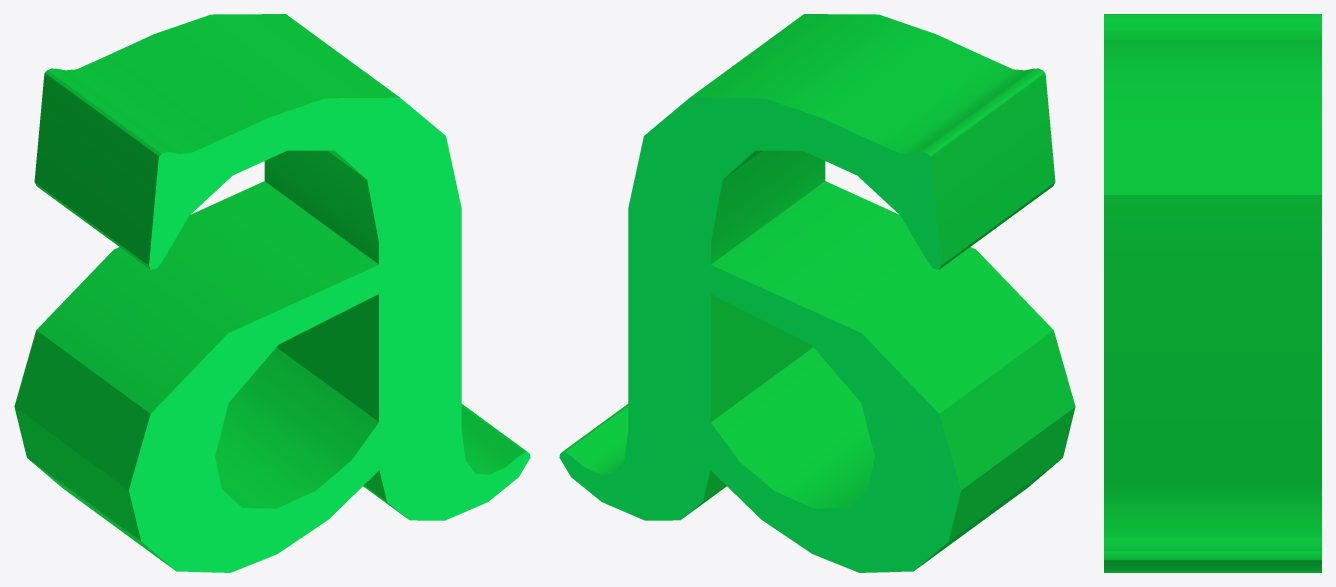
Rendered from A_Soul_Green.glb.
3 views of the same model, side by side, from view 1: azimuth 30°, elevation 25°; view 2: azimuth 150°, elevation 25°; view 3: azimuth 270°, elevation 25° (orthographic). The views are drawn at different scales.
Visible parts, largest first — view 1: a_Soul_Green; view 2: a_Soul_Green; view 3: a_Soul_Green.
Boxes of the visible parts, x1=… form: a_Soul_Green: x1=14, y1=14, x2=530, y2=572; a_Soul_Green: x1=559, y1=14, x2=1075, y2=572; a_Soul_Green: x1=1104, y1=14, x2=1321, y2=572.
Size of what is drawn, in the model's own units: 0.0912 by 0.098 by 0.045.
2 materials, 2 textured.
